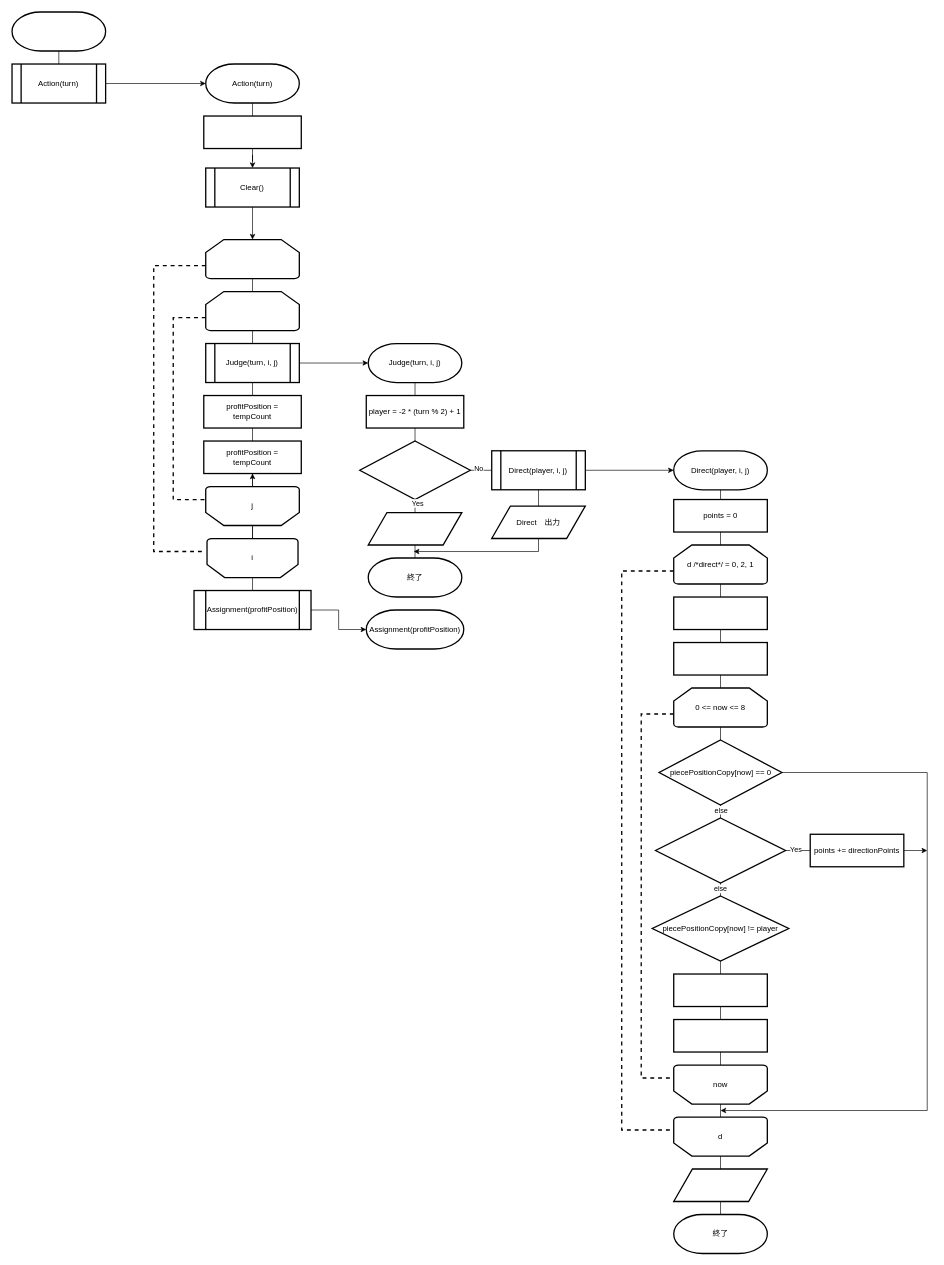
Some shapes in this 944 by 1265 pixel diagram are drawn without their labels. Here are the shapes that lost their labels. From the top down, the centre of each, then its label:
At point (58, 31): "GameManagement".
At point (252, 132): "temp.MaxFripCount = 0".
At point (252, 259): "i = 0, 7, 1".
At point (252, 311): "j = 0, 7, 1".
At point (415, 470): "piecePositionCopy[i, j] != 0".
At point (414, 528): "0 出力".
At point (720, 613): "now = index +d".
At point (720, 658): "directionPoints = 0".
At point (720, 850): "piecePositionCopy[now] == player".
At point (720, 990): "directionPoints++".
At point (720, 1035): "now += d".
At point (720, 1185): "points 出力".
